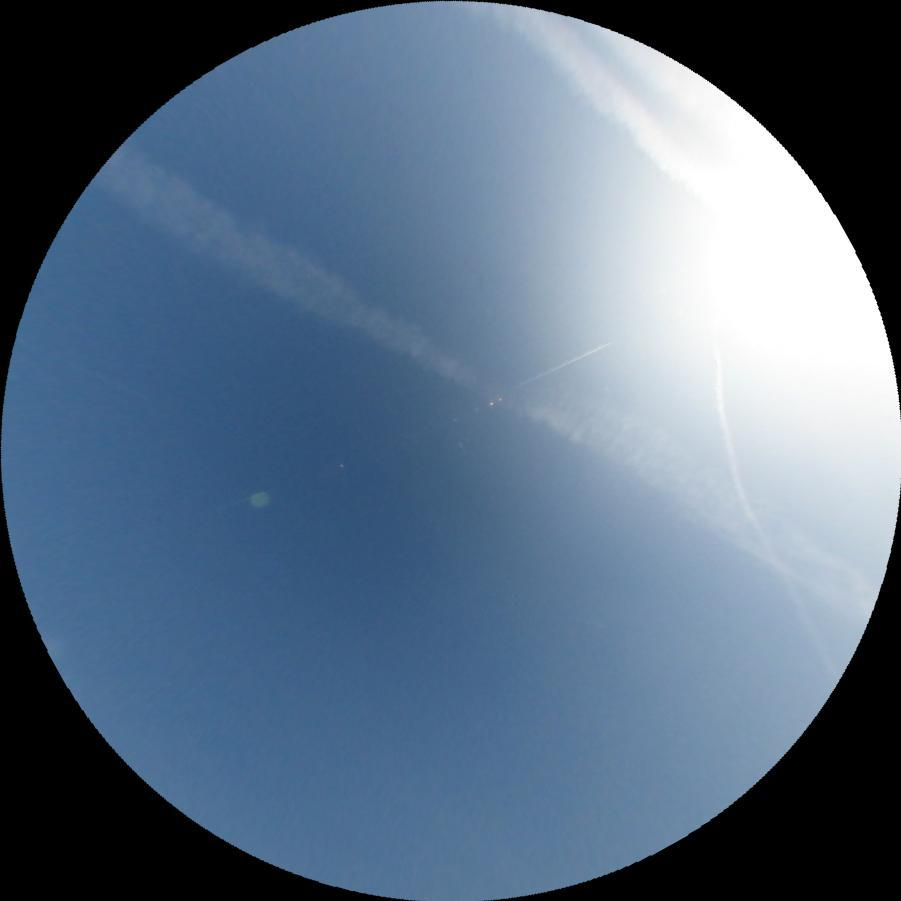contrail old: (694, 382, 842, 689)
contrail veryold: (89, 138, 889, 613), (598, 0, 799, 203)
contrail young: (474, 338, 614, 406), (14, 336, 150, 401)
sun: (680, 161, 894, 402)
